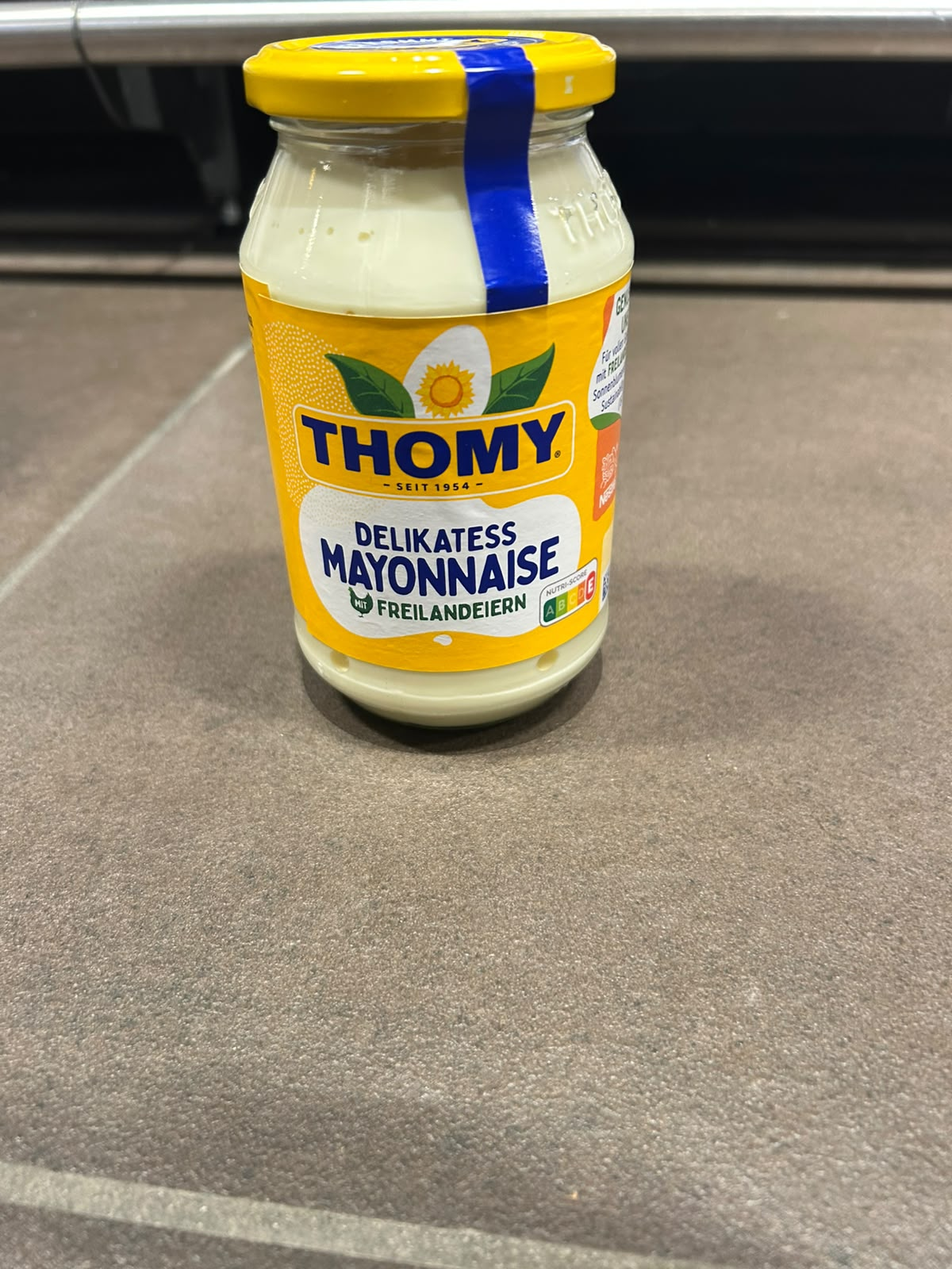jar: (231, 22, 647, 734)
